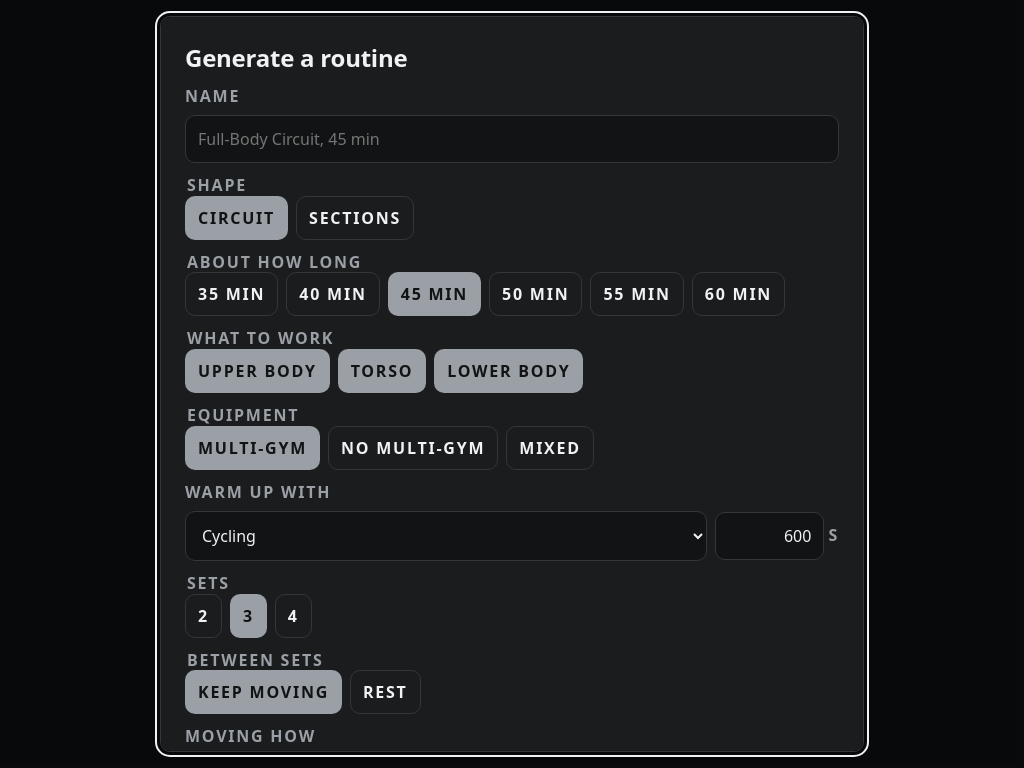
Test: GenerateDialog › asks for something to work before it will generate anything
The image size is (1024, 768).
What coordinates should you click on to do the following:
click the button "Upper body"
I would click on:
 (257, 371)
Its box is [185,349,330,393].
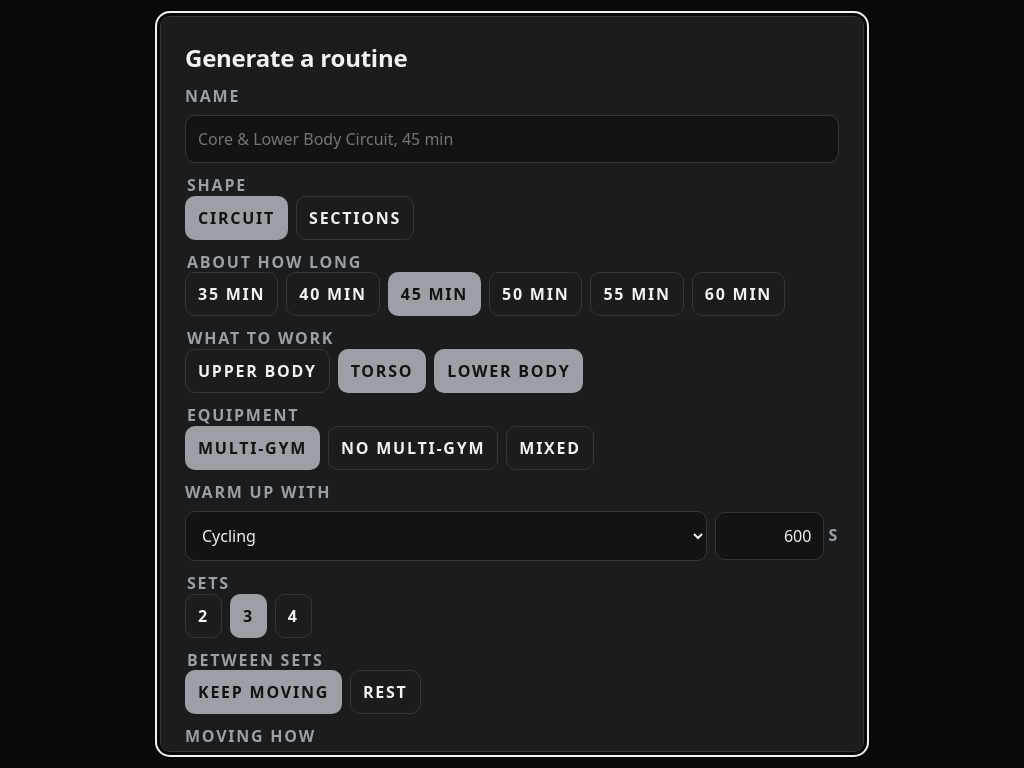
What coordinates should you click on to do the following:
click the button "Torso"
I would click on:
 (382, 371)
Its box is [338,349,426,393].
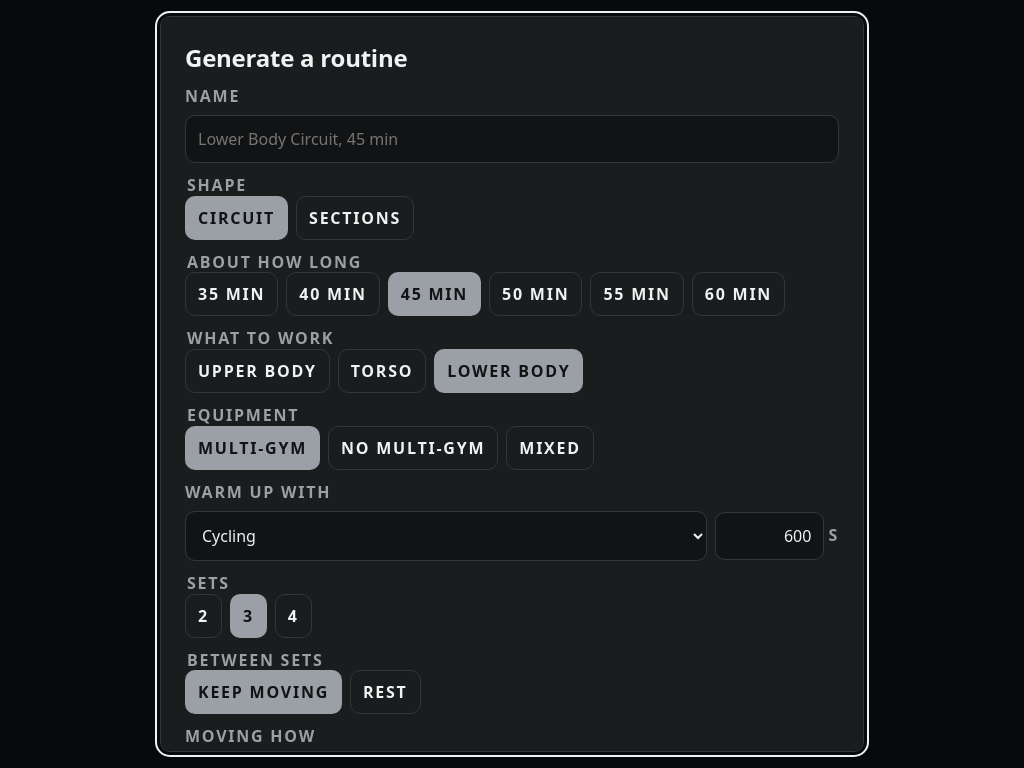
What coordinates should you click on to do the following:
click the button "Lower body"
I would click on:
 (509, 371)
Its box is [434,349,583,393].
(page scrolled)
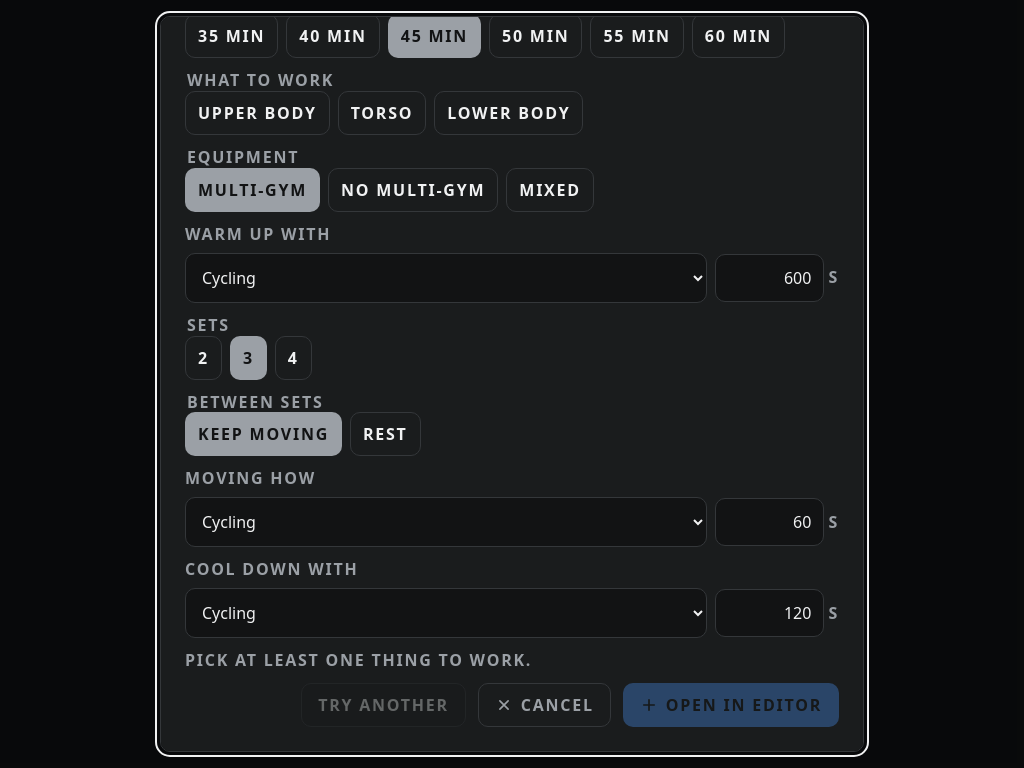
Now the text "Pick at least one thing to work." is shown, box [185,650,532,671]
Now the button "Open in editor" is disabled, box [623,683,839,727]
